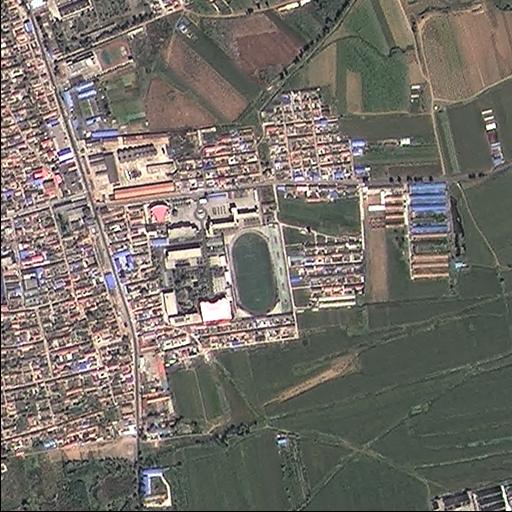school: (147, 183, 284, 327)
